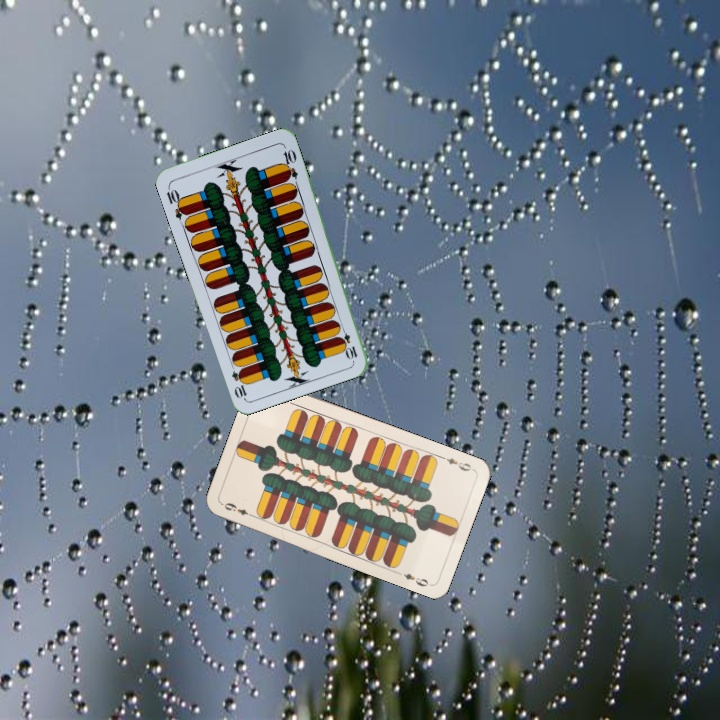E10: (162, 182, 190, 222), (336, 322, 360, 362)
E9: (437, 452, 476, 474), (218, 498, 257, 520)
